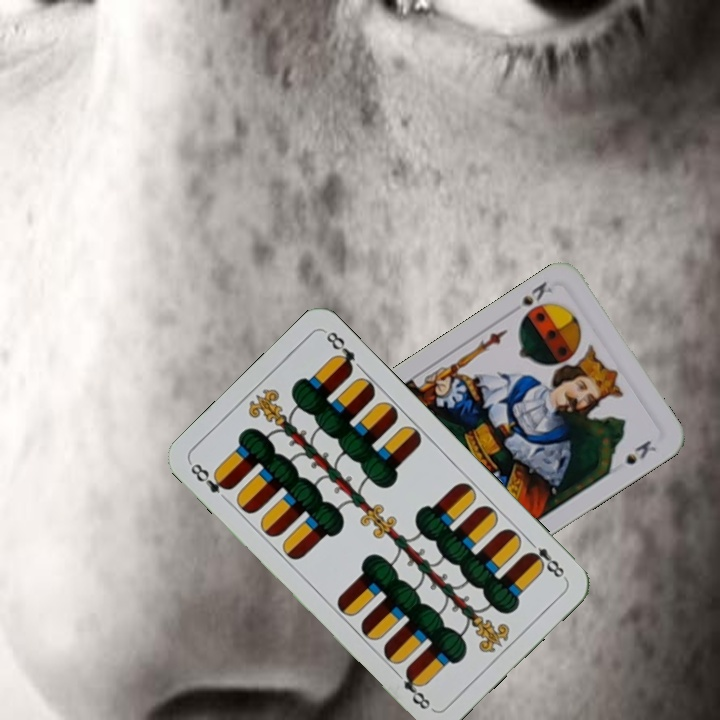E8: (522, 535, 569, 582), (186, 459, 234, 496)
SK: (505, 277, 555, 318)
